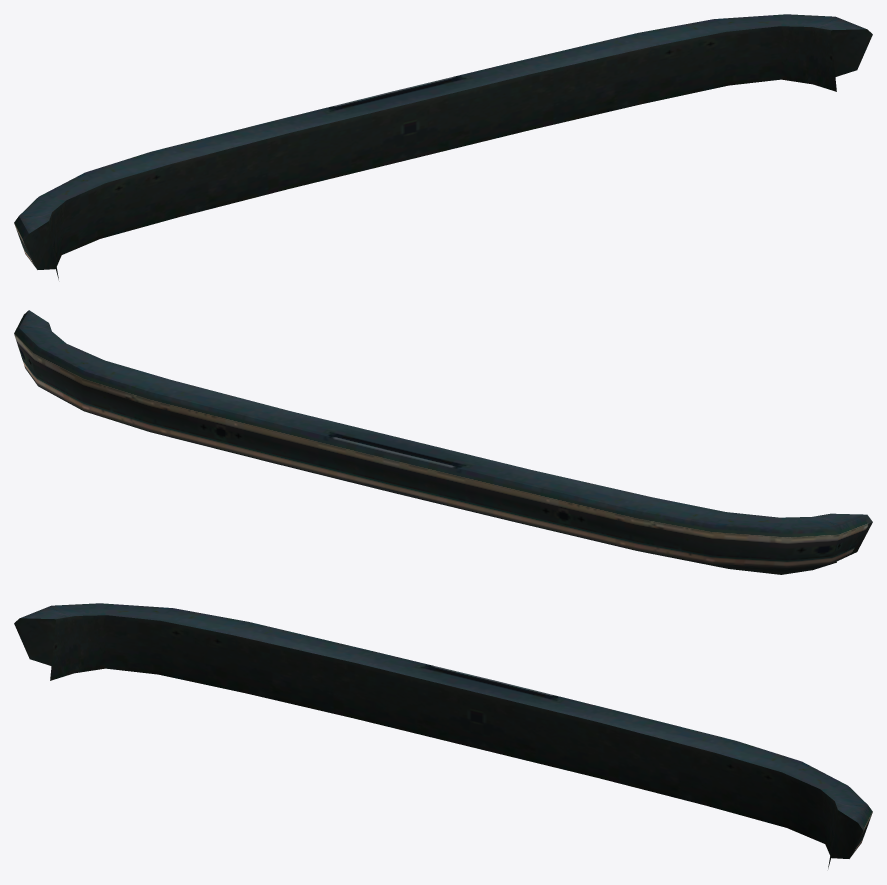
The model's file is part_5_frontbumper.fbx.
3 views of the same model, one above another, from view 1: azimuth 30°, elevation 25°; view 2: azimuth 150°, elevation 25°; view 3: azimuth 330°, elevation 25° (orthographic).
Visible parts, largest first — view 1: part_5_frontbumper.001; view 2: part_5_frontbumper.001; view 3: part_5_frontbumper.001.
Boxes of the visible parts, box(x1,y1,x2,y2) form: part_5_frontbumper.001: box(14, 14, 872, 279); part_5_frontbumper.001: box(14, 310, 872, 574); part_5_frontbumper.001: box(14, 603, 872, 868).
Bounding box in the file's own units: 148 × 9.19 × 17.24.
